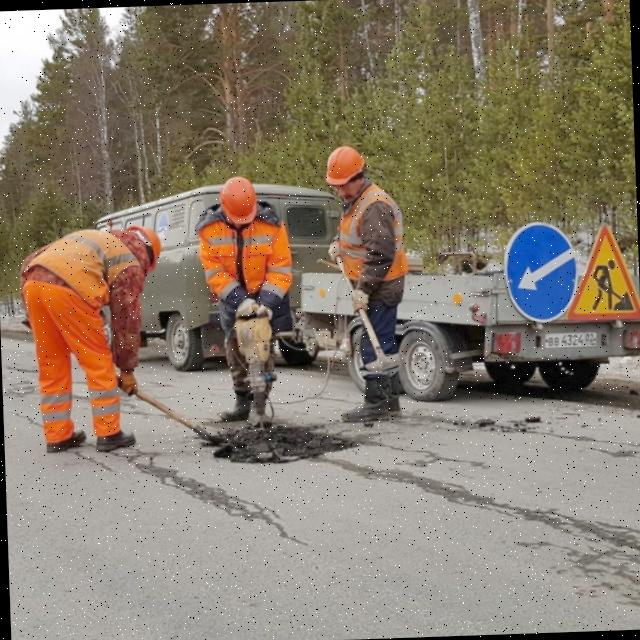Helmet: (220, 177, 262, 226), (324, 146, 367, 188), (144, 227, 164, 271)
Jacket: (203, 219, 283, 304), (34, 231, 145, 290), (339, 190, 402, 277)
